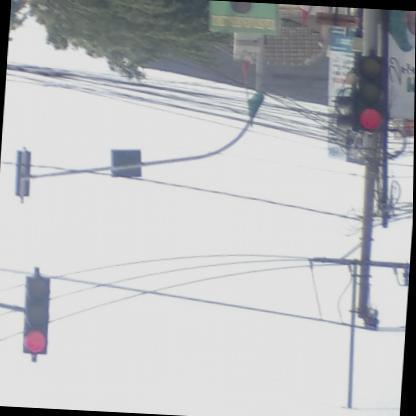red: (352, 57, 388, 130), (22, 274, 52, 357)
